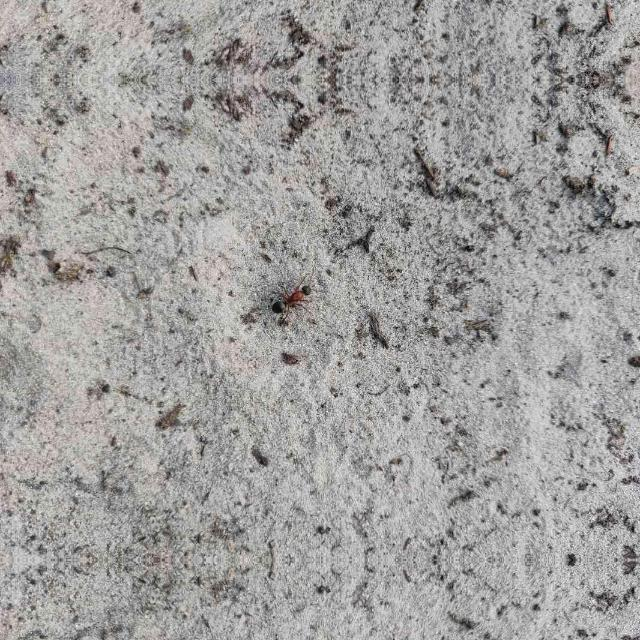Formica: (262, 274, 320, 316)
